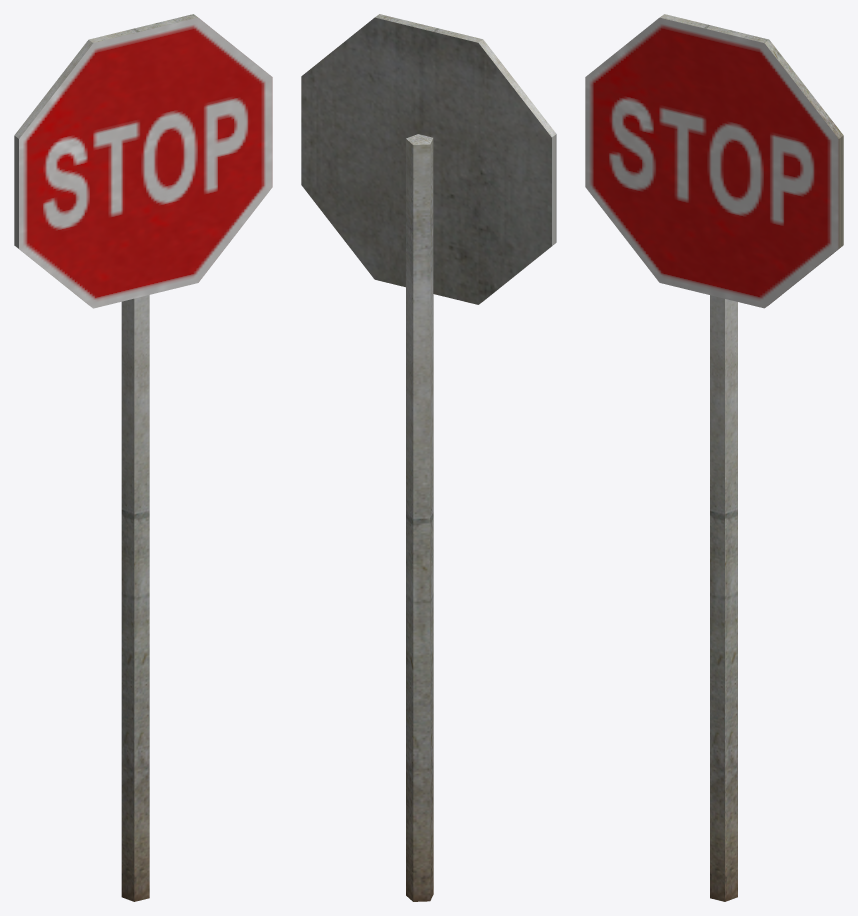
File: stop.fbx
The picture shows the model from 3 angles, left to right: view 1: azimuth 30°, elevation 25°; view 2: azimuth 150°, elevation 25°; view 3: azimuth 330°, elevation 25°; orthographic projection.
Visible parts, largest first — view 1: Cylinder.001; view 2: Cylinder.001; view 3: Cylinder.001.
Part boxes in pixels (box(x1,y1,x2,y2)): Cylinder.001: box(14, 14, 272, 901); Cylinder.001: box(301, 14, 556, 901); Cylinder.001: box(585, 14, 843, 901).
Bounding box in the file's own units: 148 × 489 × 17.89.
